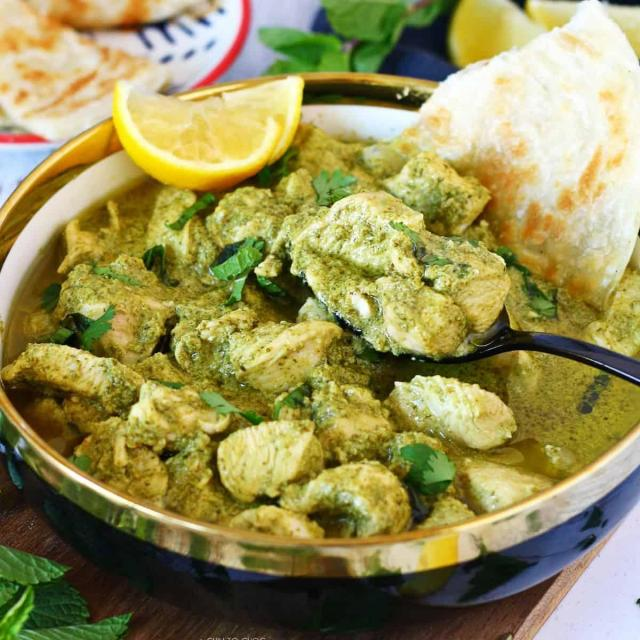chicken: (19, 147, 633, 533)
roti: (432, 0, 640, 280), (0, 1, 222, 113)
